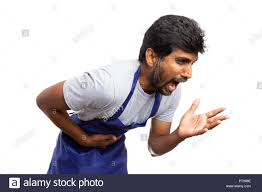Indian_Male: (146, 38, 197, 94)
